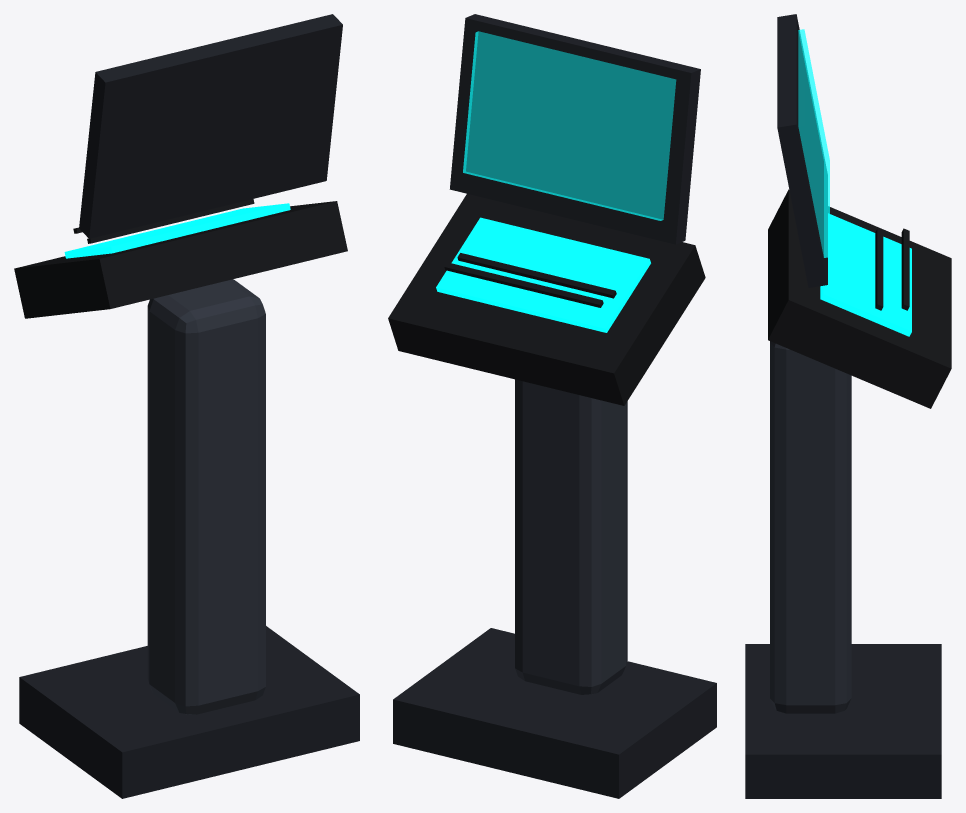
The model's file is Prop_HackTerminal.fbx.
3 renders of one model, left to right at view 1: azimuth 30°, elevation 25°; view 2: azimuth 150°, elevation 25°; view 3: azimuth 270°, elevation 25°, orthographic. The views are drawn at different scales.
Visible parts, largest first — view 1: Prop_HackTerminal__DarkMetal, Prop_HackTerminal__SteelPanel, Prop_HackTerminal__CarbonFiber, Prop_HackTerminal__NeonCyan; view 2: Prop_HackTerminal__DarkMetal, Prop_HackTerminal__SteelPanel, Prop_HackTerminal__CarbonFiber, Prop_HackTerminal__HoloCyan, Prop_HackTerminal__NeonCyan; view 3: Prop_HackTerminal__DarkMetal, Prop_HackTerminal__SteelPanel, Prop_HackTerminal__CarbonFiber, Prop_HackTerminal__NeonCyan, Prop_HackTerminal__HoloCyan.
Part boxes in pixels (bbox=[...]): Prop_HackTerminal__DarkMetal: bbox=[19, 14, 359, 798]; Prop_HackTerminal__SteelPanel: bbox=[147, 279, 265, 714]; Prop_HackTerminal__CarbonFiber: bbox=[14, 199, 347, 318]; Prop_HackTerminal__NeonCyan: bbox=[64, 203, 290, 258]; Prop_HackTerminal__DarkMetal: bbox=[393, 14, 716, 798]; Prop_HackTerminal__SteelPanel: bbox=[515, 379, 627, 694]; Prop_HackTerminal__CarbonFiber: bbox=[388, 194, 705, 405]; Prop_HackTerminal__HoloCyan: bbox=[463, 31, 676, 220]; Prop_HackTerminal__NeonCyan: bbox=[436, 217, 650, 332]; Prop_HackTerminal__DarkMetal: bbox=[745, 14, 941, 798]; Prop_HackTerminal__SteelPanel: bbox=[770, 341, 851, 713]; Prop_HackTerminal__CarbonFiber: bbox=[768, 189, 951, 408]; Prop_HackTerminal__NeonCyan: bbox=[820, 213, 911, 336]; Prop_HackTerminal__HoloCyan: bbox=[798, 29, 829, 257].
Size of the model in its own units: 1.6 by 4.55 by 1.26.
